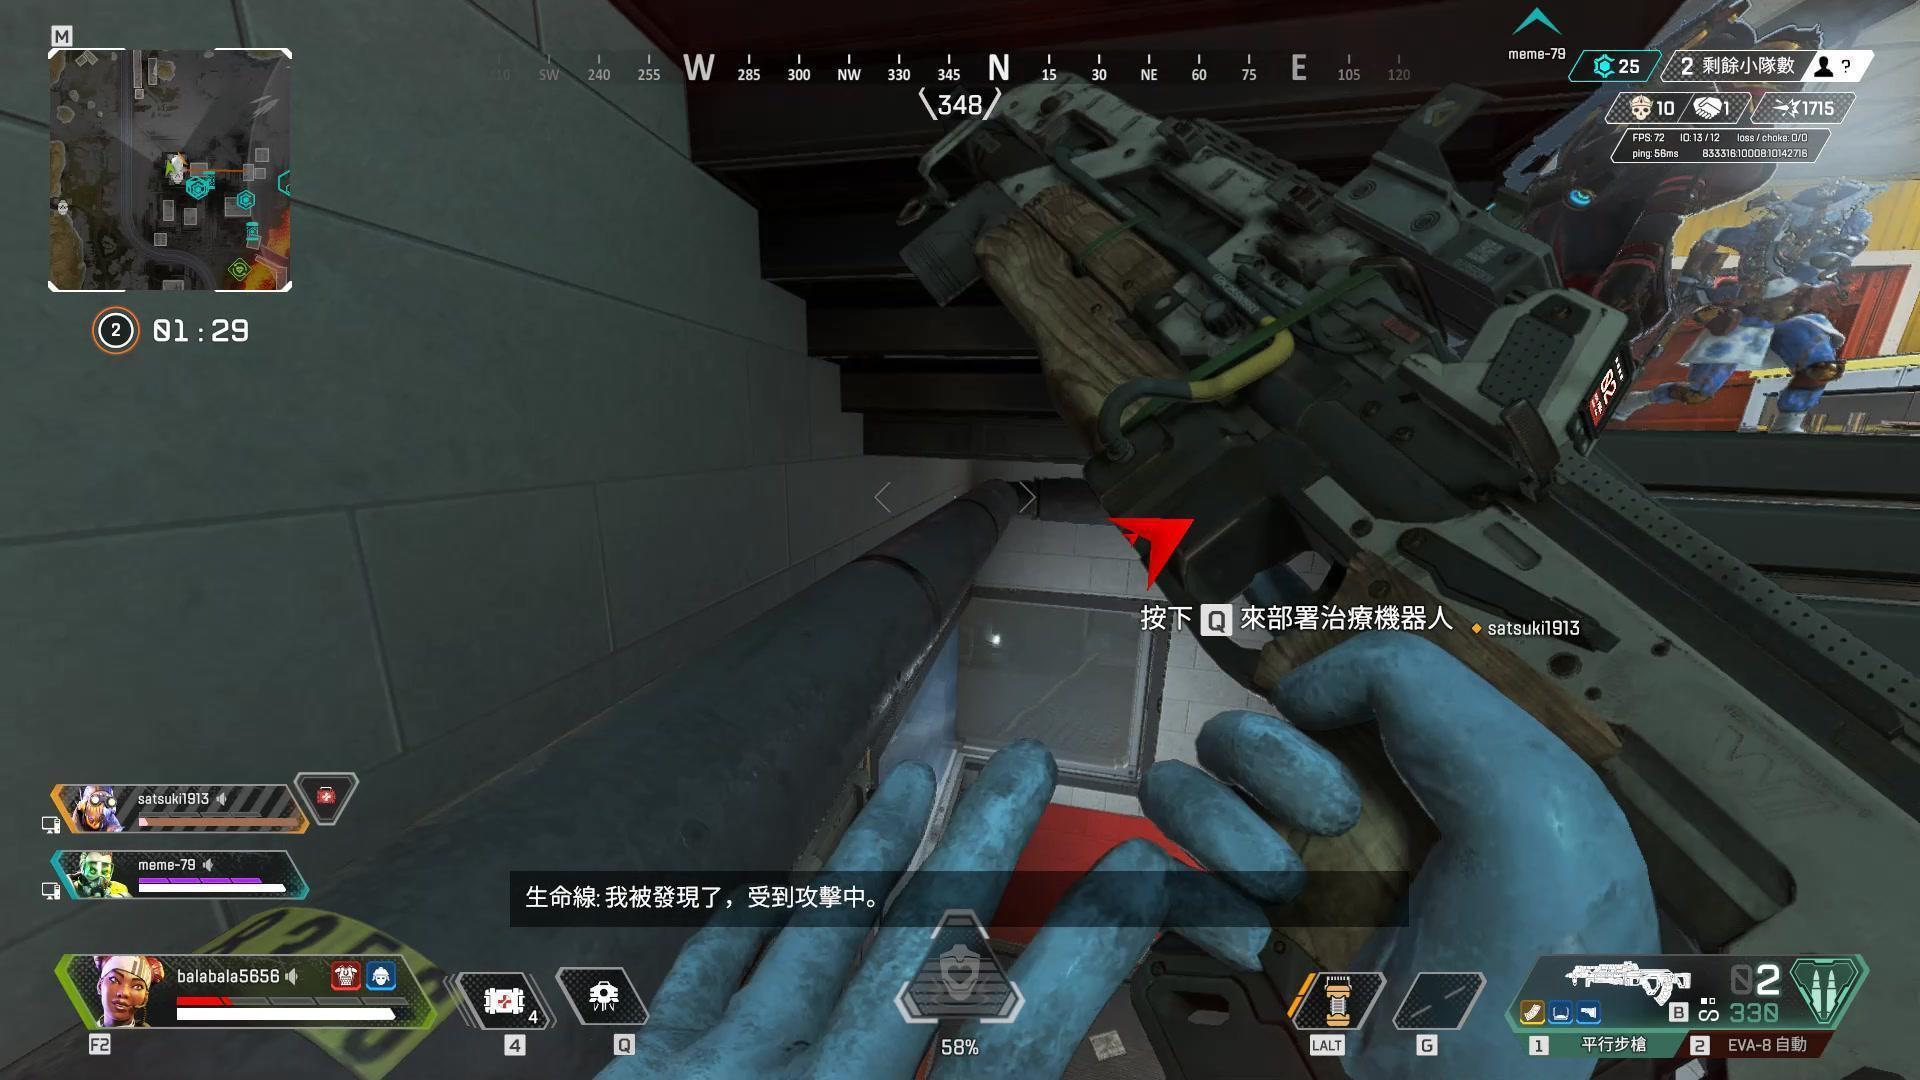avatar: (1672, 174, 1879, 439)
